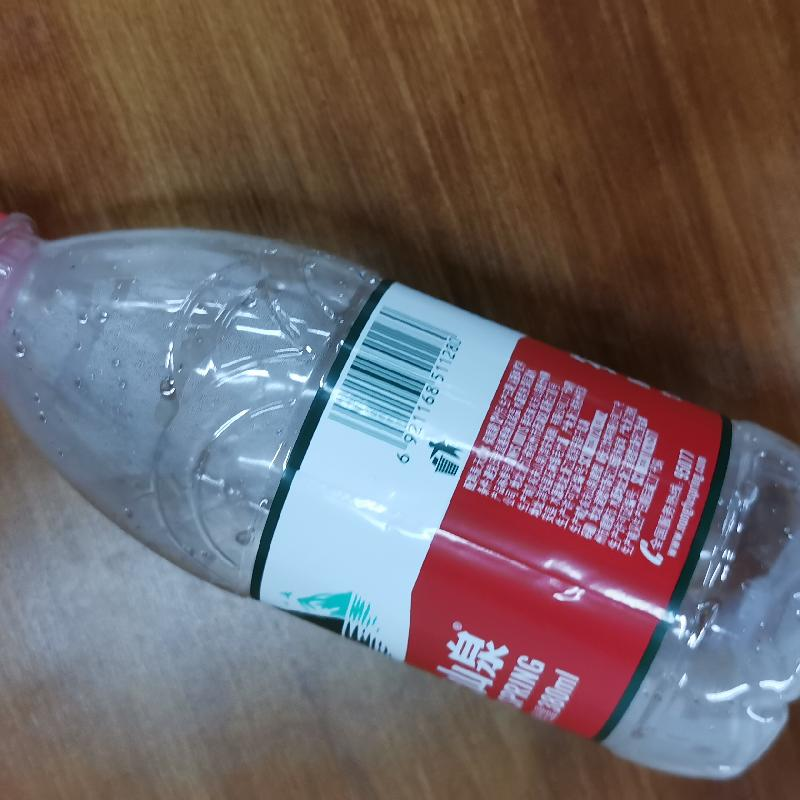bottles: (2, 195, 799, 777)
